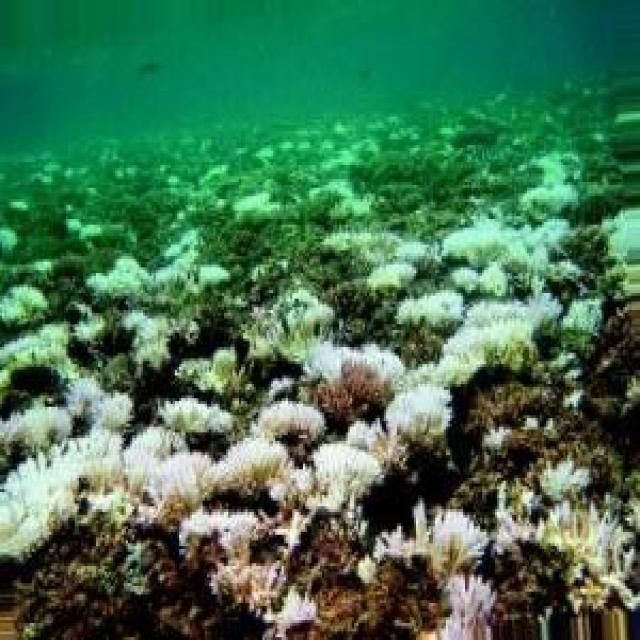bleached coral: (0, 435, 117, 560), (403, 506, 495, 634), (68, 447, 215, 521), (309, 347, 410, 427), (190, 435, 311, 498), (444, 302, 542, 367), (439, 219, 561, 265), (265, 282, 335, 358), (62, 341, 128, 395)
